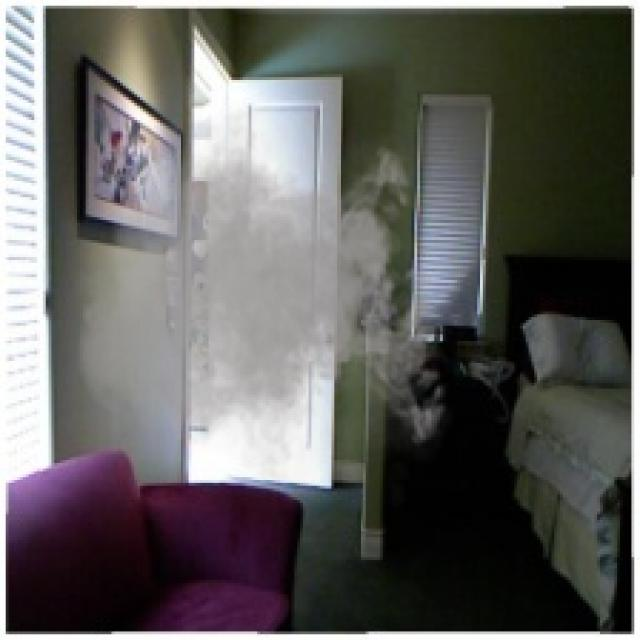smoke: (72, 86, 457, 506)
